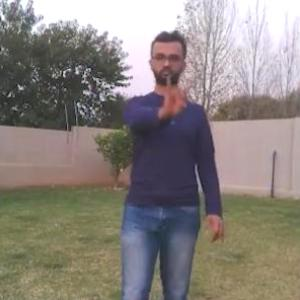takeoff-hand: (157, 75, 189, 120)
